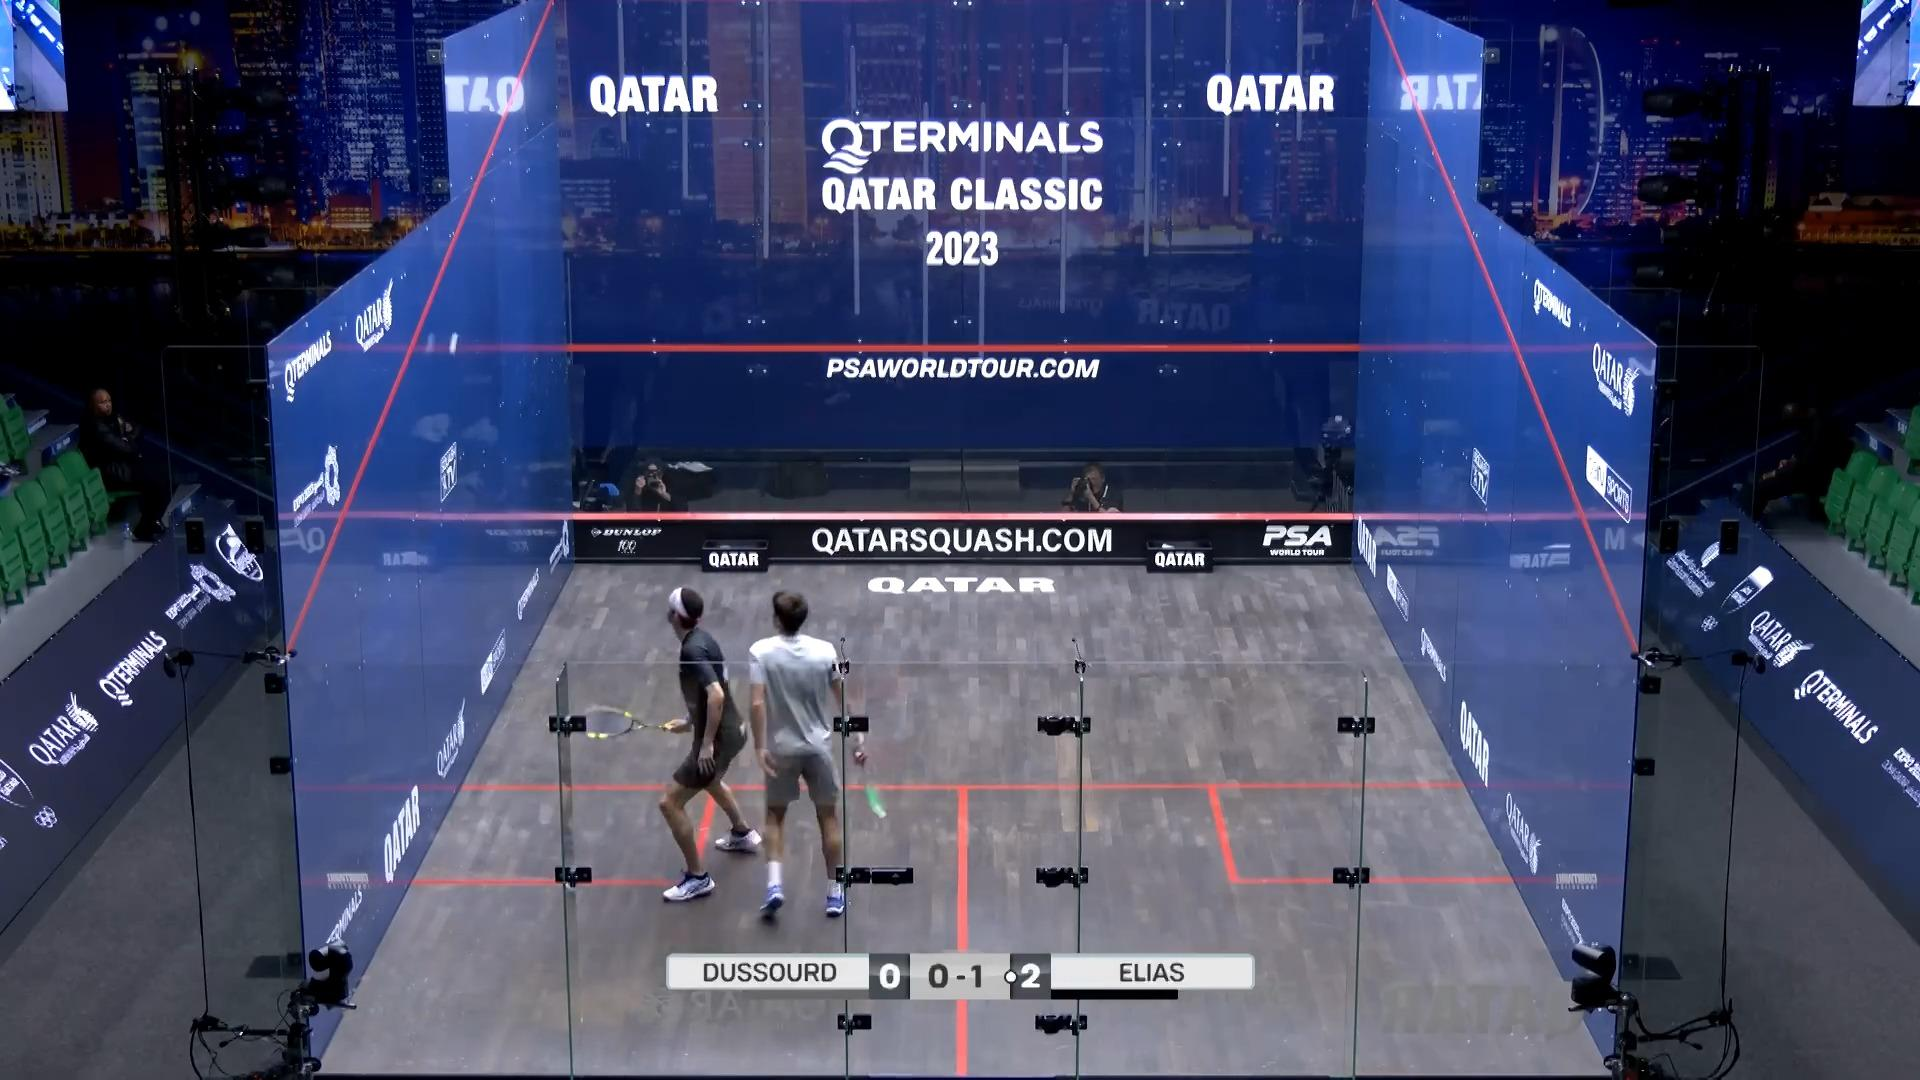Racket: (566, 695, 662, 753), (851, 769, 909, 833)
